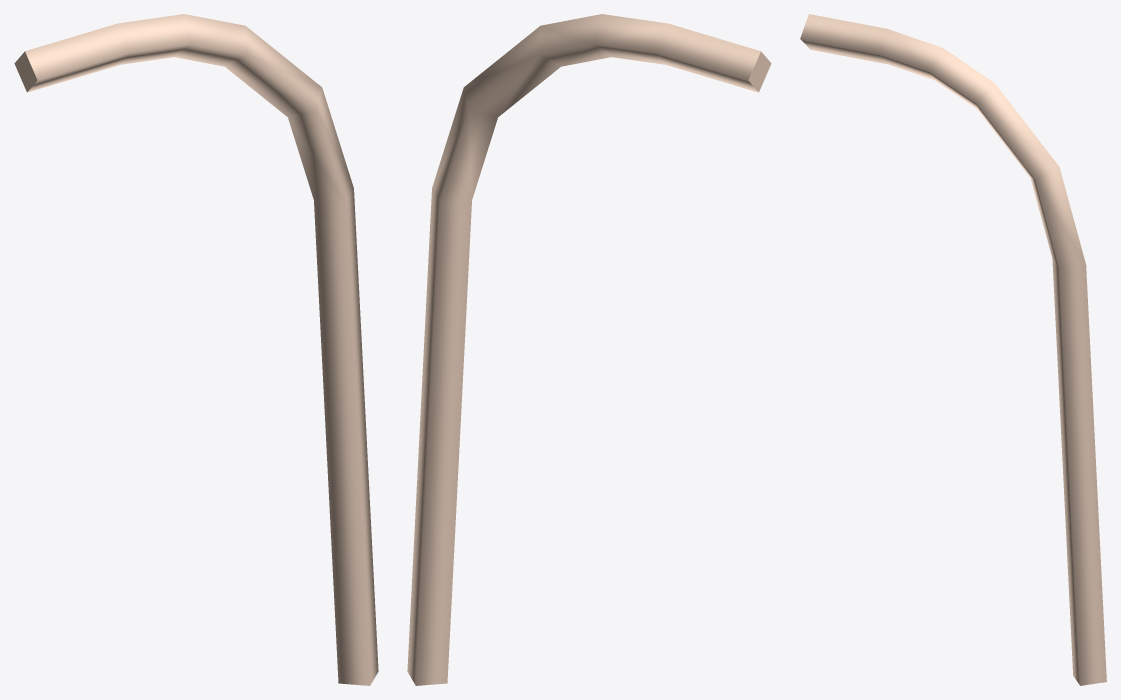
The model's file is Tige poids petite detente_Heures.obj.
The picture shows the model from 3 angles, left to right: view 1: azimuth 30°, elevation 25°; view 2: azimuth 150°, elevation 25°; view 3: azimuth 330°, elevation 25°; orthographic projection. The views are drawn at different scales.
Parts seen in each view (by area): view 1: Face_3, Face_2, Face_1; view 2: Face_3, Face_2, Face_1; view 3: Face_3, Face_2, Face_1.
Boxes of the visible parts, x1,y1,x2,y2 form: Face_3: (314, 189, 378, 685); Face_2: (118, 14, 353, 202); Face_1: (25, 23, 130, 92); Face_3: (407, 189, 471, 685); Face_2: (432, 14, 667, 202); Face_1: (655, 23, 760, 92); Face_3: (1052, 259, 1106, 685); Face_2: (878, 29, 1085, 268); Face_1: (800, 14, 888, 64).
Size of the model in its own units: 0.0264 by 0.051 by 0.003.
